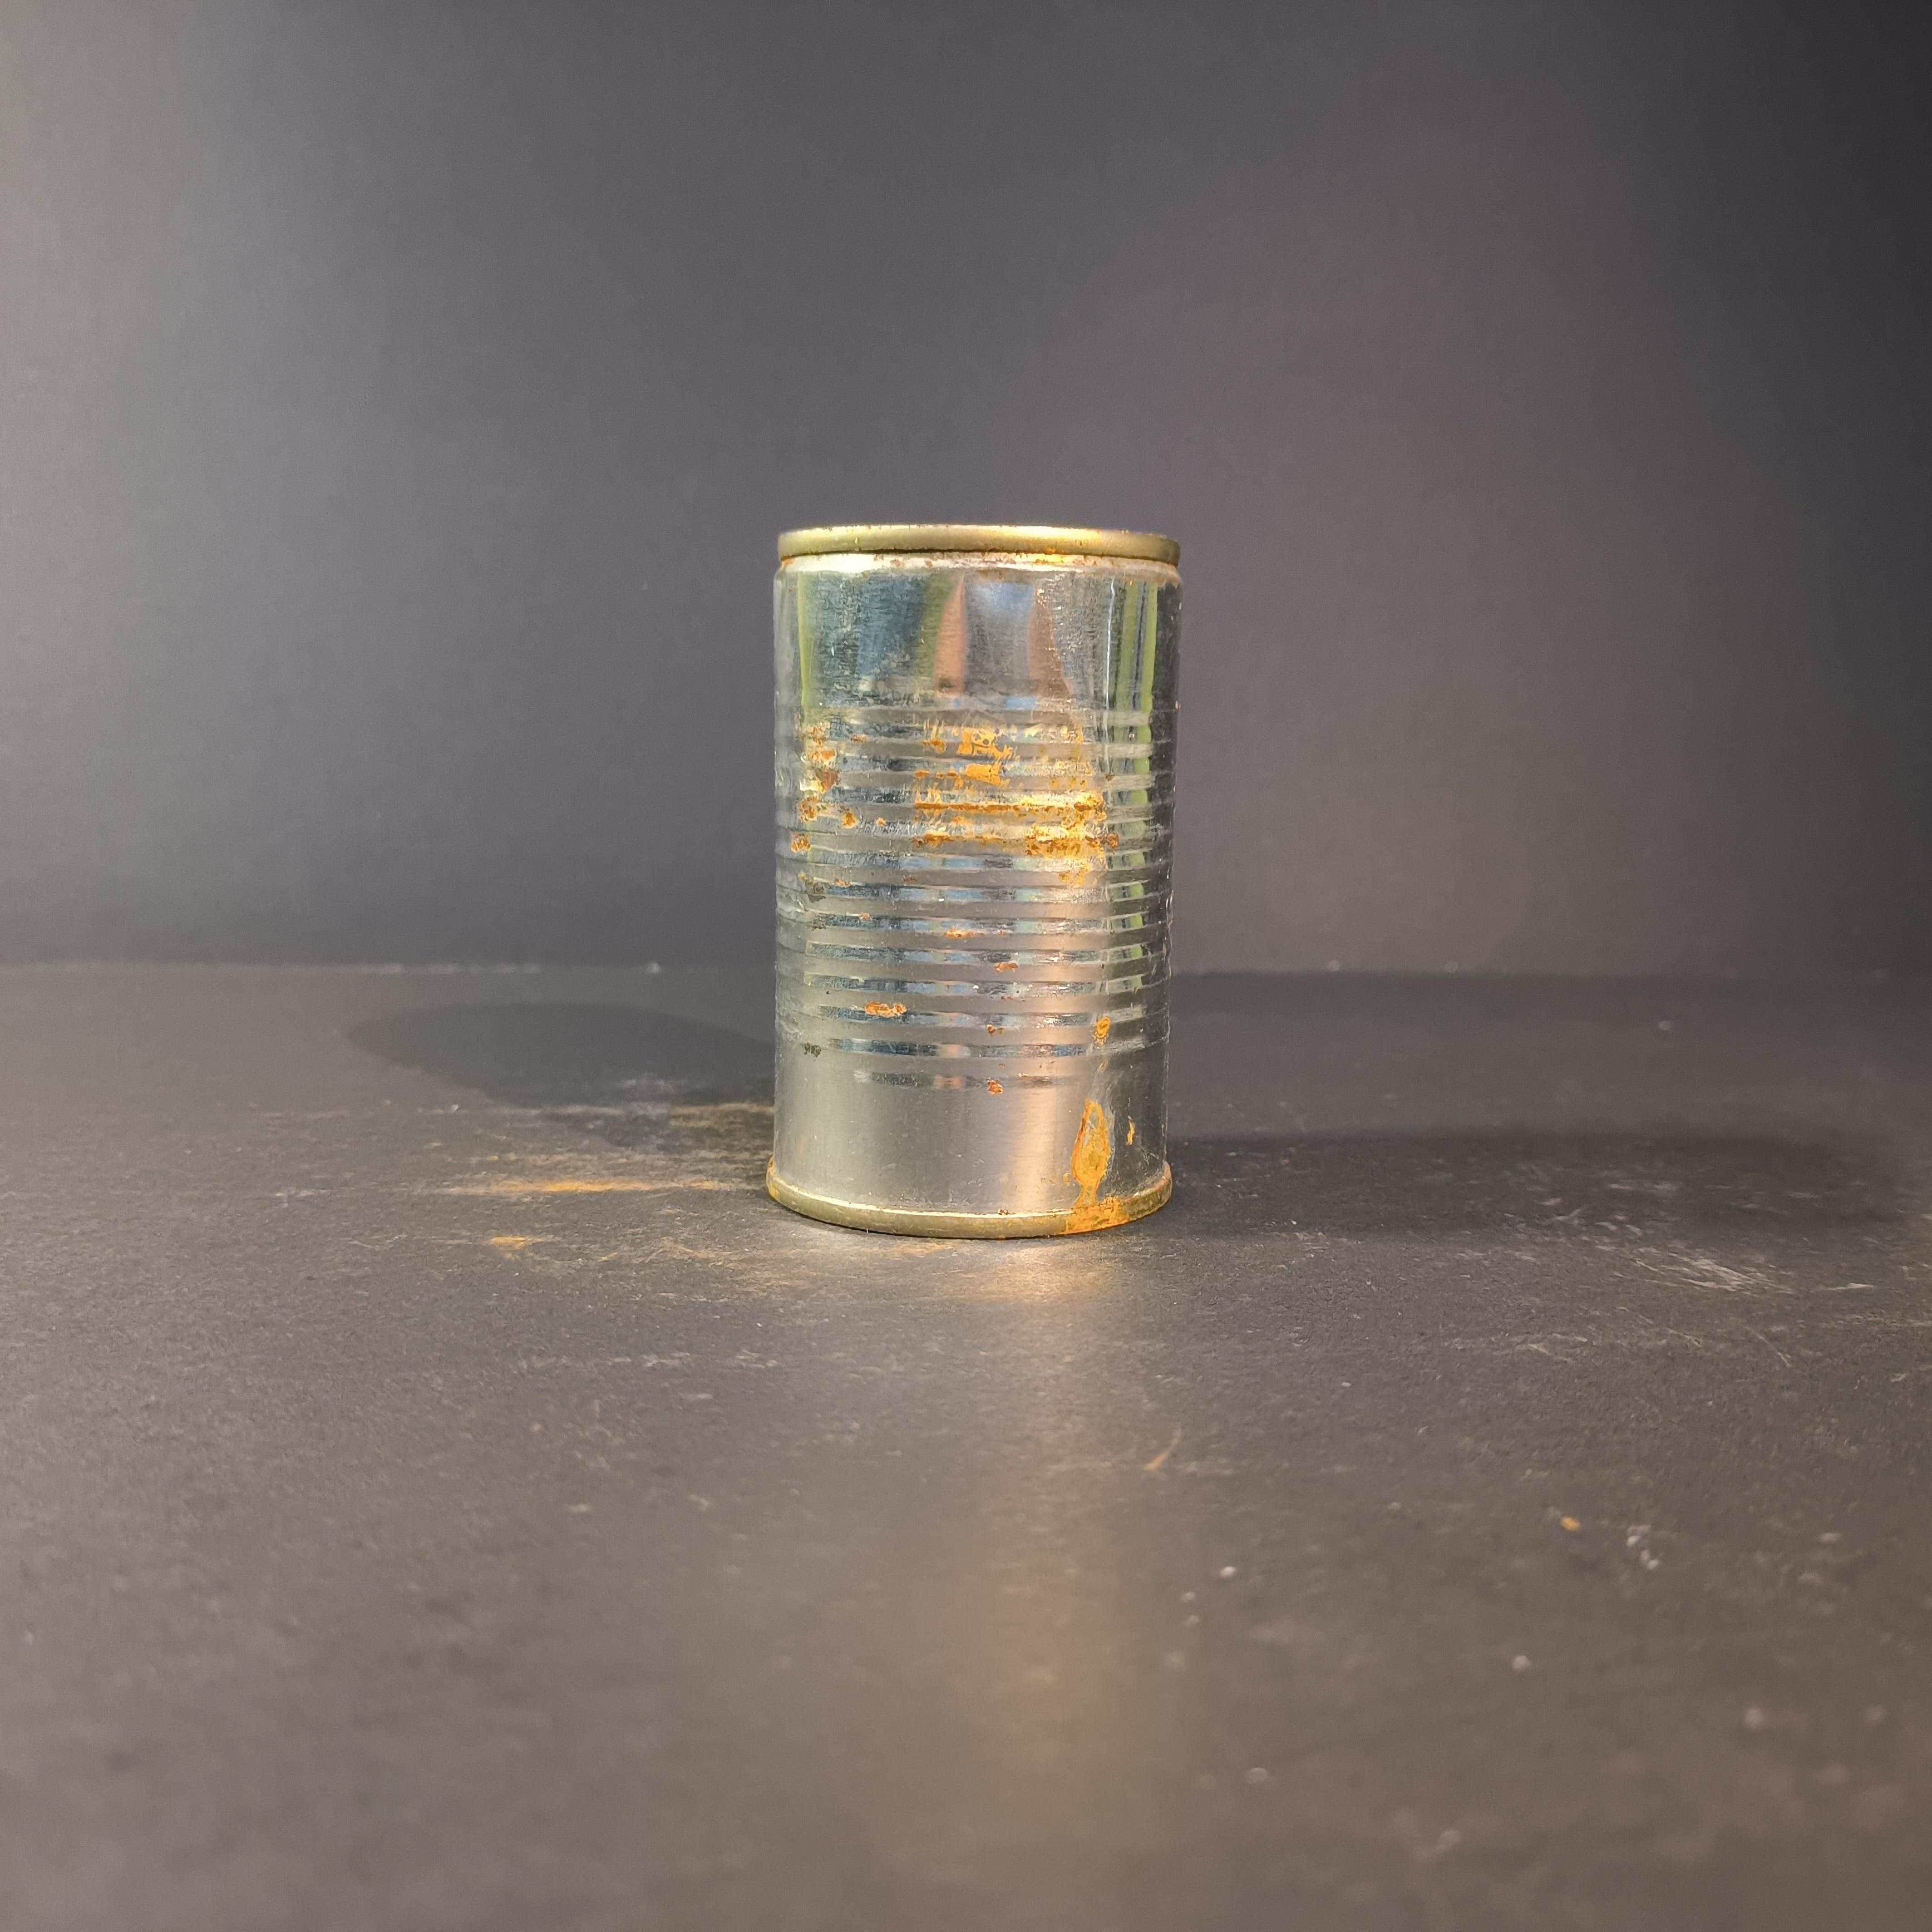Major Defect: (765, 524, 1184, 1246)
